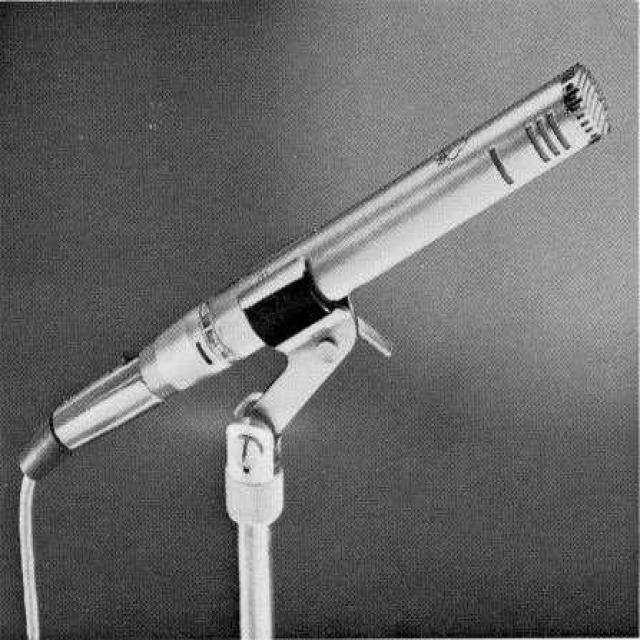microphone: (0, 68, 639, 476)
